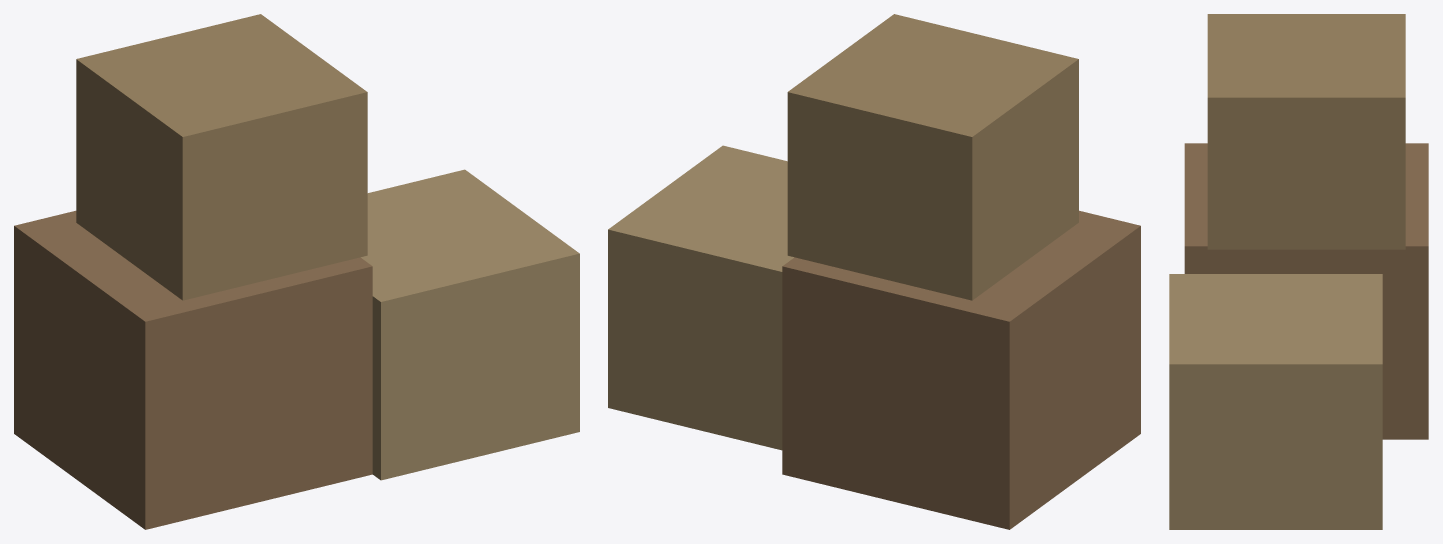
File: capital-crates.glb
3 views of the same model, side by side, from view 1: azimuth 30°, elevation 25°; view 2: azimuth 150°, elevation 25°; view 3: azimuth 270°, elevation 25° (orthographic). The views are drawn at different scales.
Visible parts, largest first — view 1: Building; view 2: Building; view 3: Building.
Boxes of the visible parts, left/top/right/bottom form: Building: left=14, top=14, right=579, bottom=529; Building: left=608, top=14, right=1140, bottom=529; Building: left=1169, top=14, right=1428, bottom=529.
Bounding box in the file's own units: 30 × 25 × 17.
